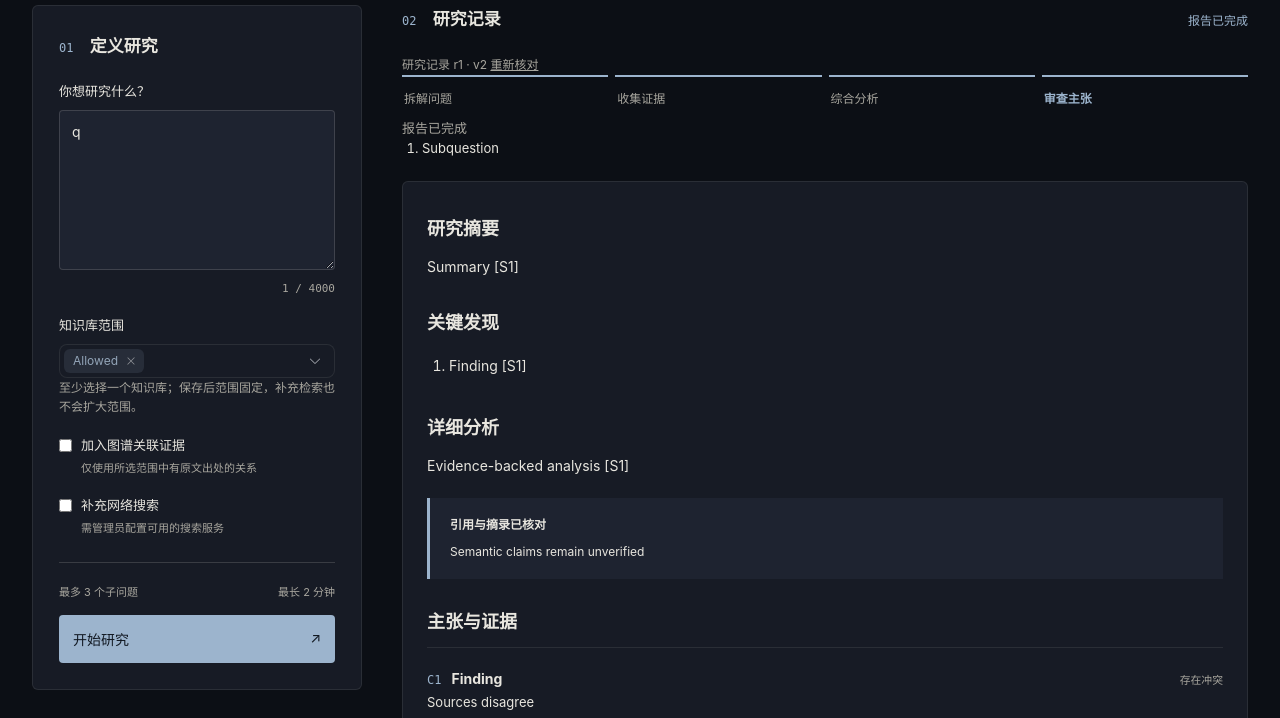
Scenario: durable research page › clears stale evidence when current source access is revoked
(page scrolled)
Click the button "重新核对": {"x": 514, "y": 65} x1=490 y1=54 x2=538 y2=75
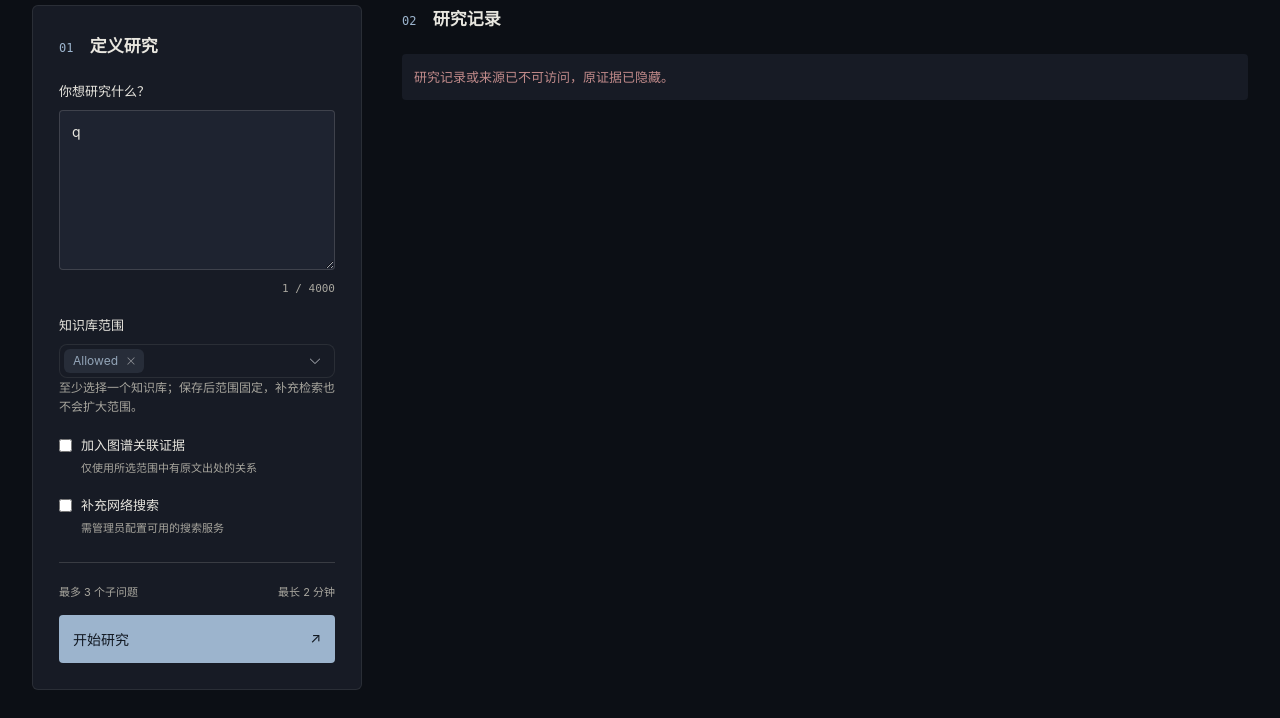
Now the text "原证据已隐藏" is shown, box x1=414 y1=69 x2=674 y2=85
